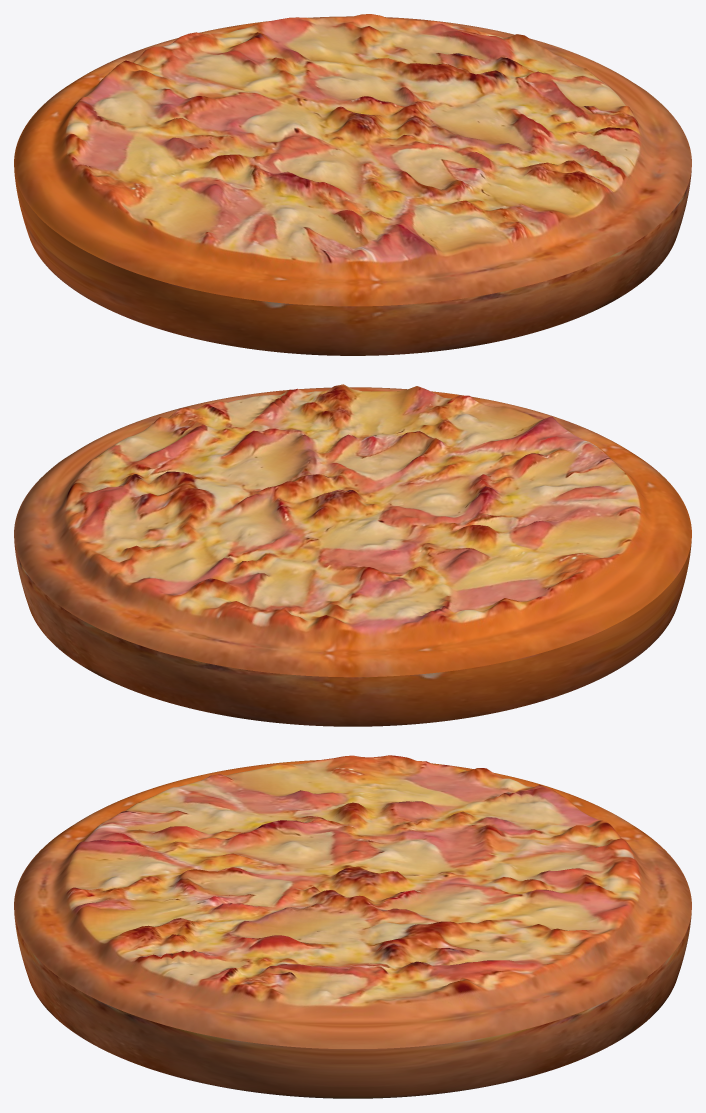
Rendered from hawaiana.glb.
3 renders of one model, top to bottom at view 1: azimuth 30°, elevation 25°; view 2: azimuth 150°, elevation 25°; view 3: azimuth 270°, elevation 25°, orthographic.
Parts seen in each view (by area): view 1: Hawaiana; view 2: Hawaiana; view 3: Hawaiana.
Boxes of the visible parts, x1,y1,x2,y2 form: Hawaiana: (14, 14, 691, 355); Hawaiana: (14, 384, 691, 726); Hawaiana: (14, 755, 691, 1098).
Size of the model in its own units: 0.36 by 0.0549 by 0.36.
Materials: 2 (2 with a texture image).
